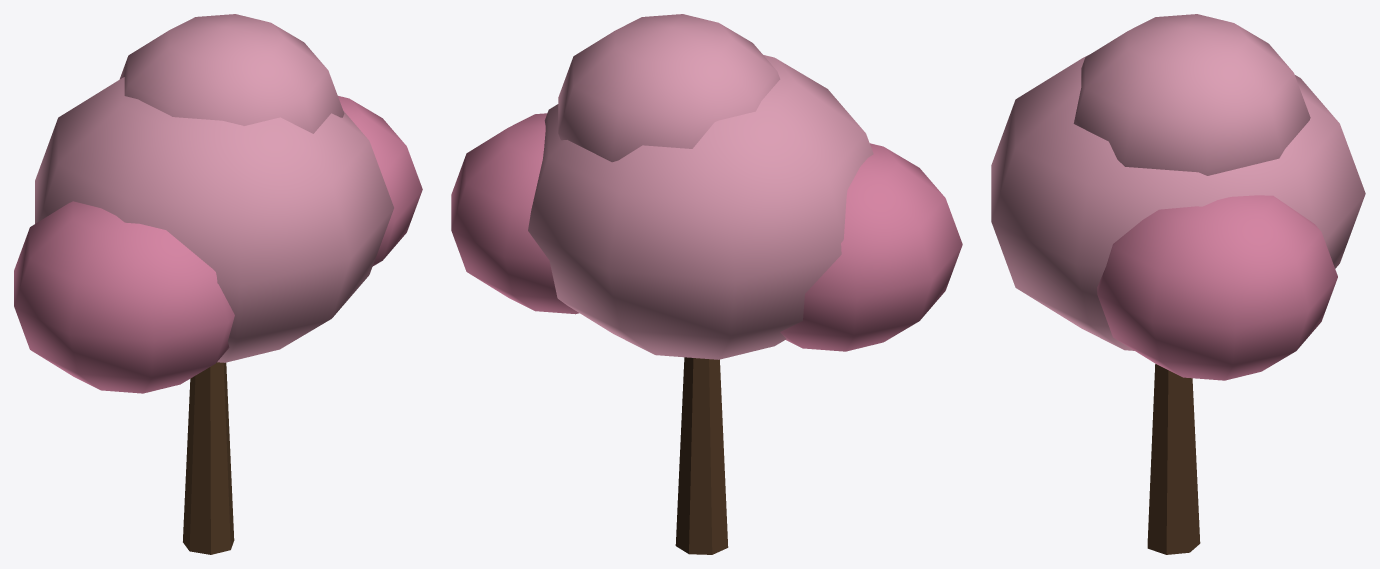
Rendered from Tree_Blossom.fbx.
3 renders of one model, left to right at view 1: azimuth 30°, elevation 25°; view 2: azimuth 150°, elevation 25°; view 3: azimuth 270°, elevation 25°, orthographic. The views are drawn at different scales.
Parts seen in each view (by area): view 1: Tree_Blossom; view 2: Tree_Blossom; view 3: Tree_Blossom.
Boxes of the visible parts, left/top/right/bottom form: Tree_Blossom: left=14, top=14, right=422, bottom=554; Tree_Blossom: left=451, top=14, right=962, bottom=554; Tree_Blossom: left=991, top=14, right=1365, bottom=554.
Size of the model in its own units: 3.72 by 4.22 by 2.72.
